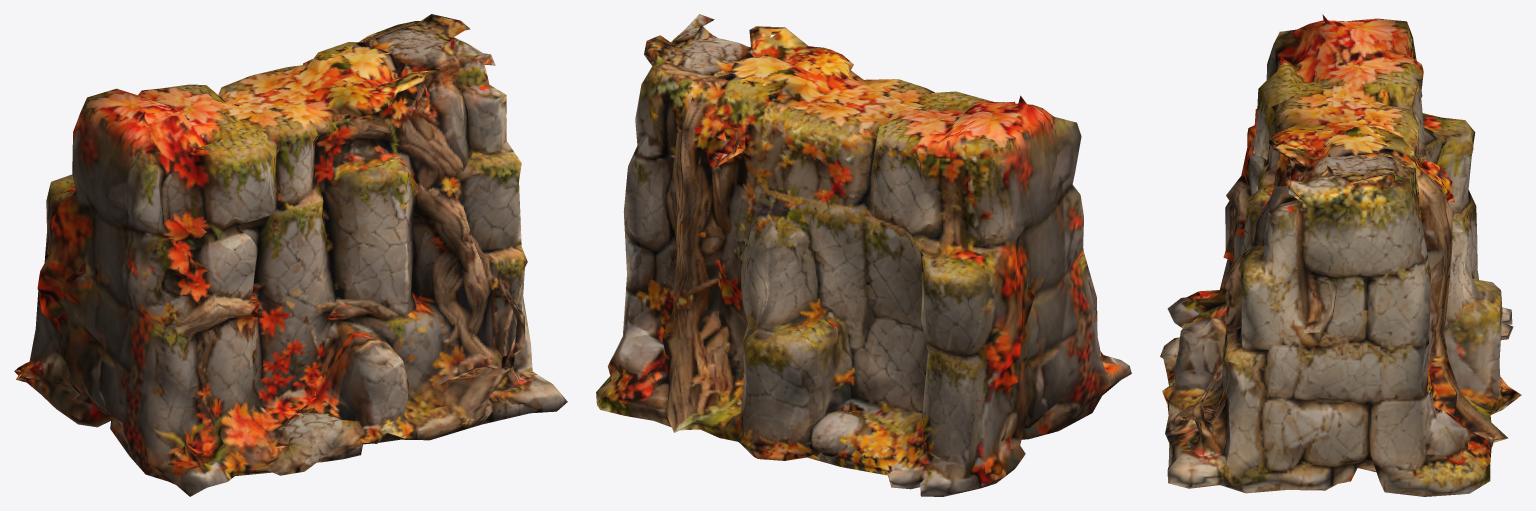
File: AncientGrove_Wall.fbx
The picture shows the model from 3 angles, left to right: view 1: azimuth 30°, elevation 25°; view 2: azimuth 150°, elevation 25°; view 3: azimuth 270°, elevation 25°; orthographic projection. The views are drawn at different scales.
Visible parts, largest first — view 1: AncientGrove_Wall_Mesh; view 2: AncientGrove_Wall_Mesh; view 3: AncientGrove_Wall_Mesh.
Boxes of the visible parts, box(x1,y1,x2,y2) form: AncientGrove_Wall_Mesh: box(14, 14, 567, 496); AncientGrove_Wall_Mesh: box(596, 14, 1131, 496); AncientGrove_Wall_Mesh: box(1160, 14, 1521, 496).
Size of the model in its own units: 6 by 4.77 by 4.81.
Materials: 1 (1 with a texture image).
